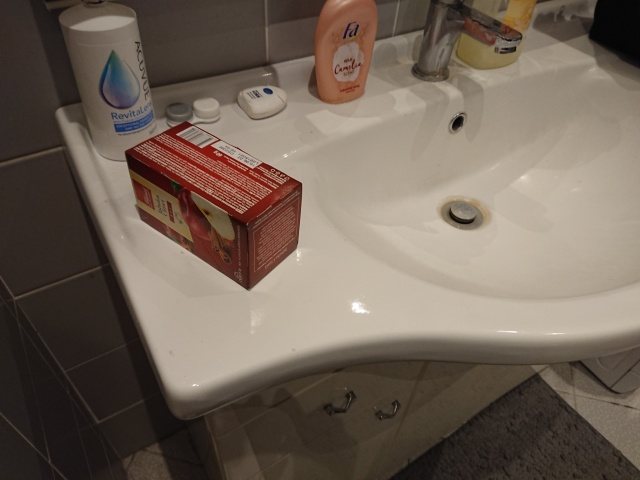Franck Apple Cinnamon Tea 60g: (121, 119, 306, 293)
